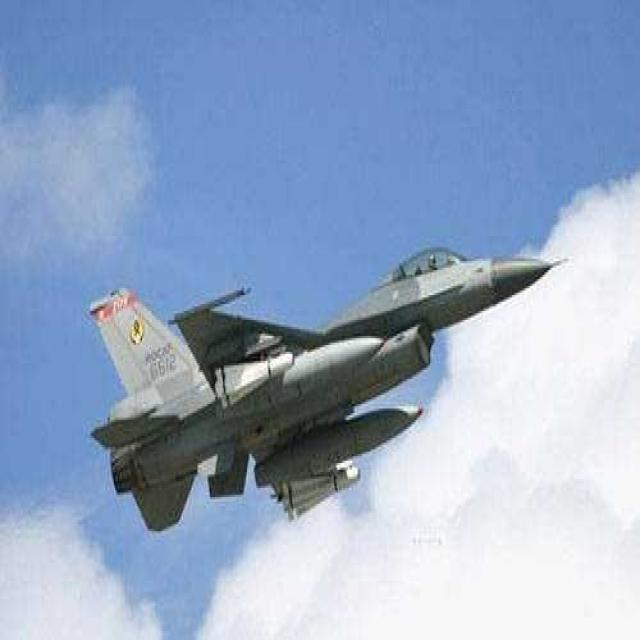missile: (282, 455, 363, 529), (218, 345, 296, 409)
